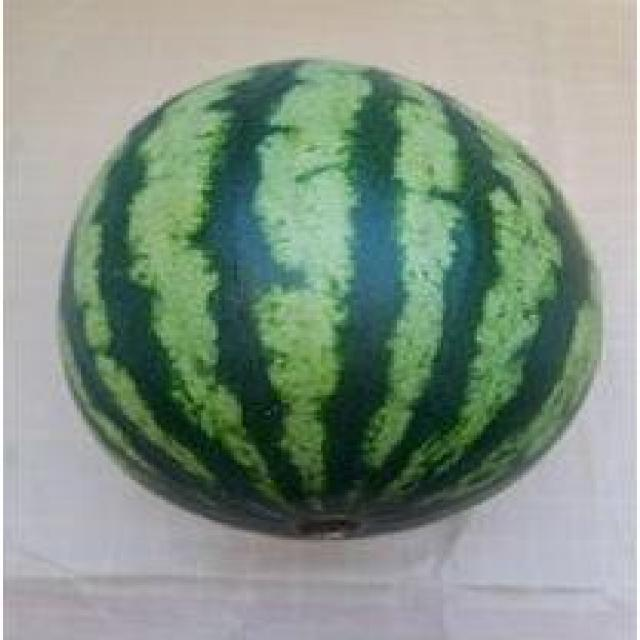watermelon: (53, 54, 607, 542)
